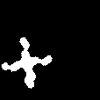single_crochet: (2, 38, 51, 87)
